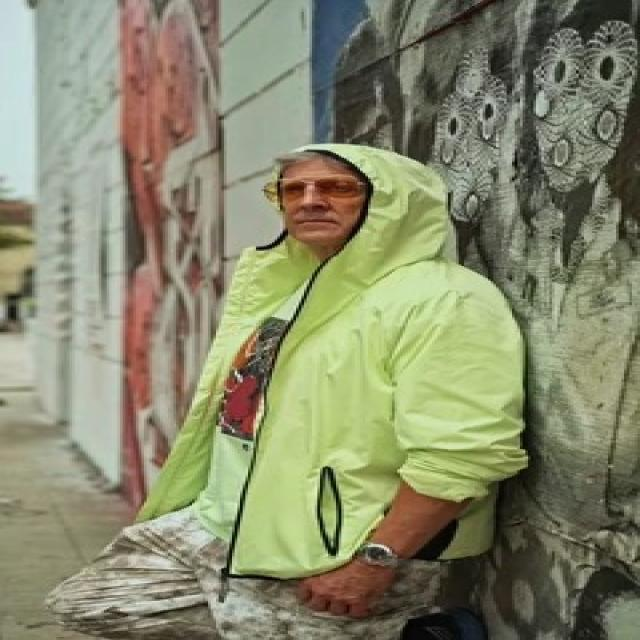Jacket_Wearer: (158, 242, 590, 592)
Person: (125, 132, 582, 624)
